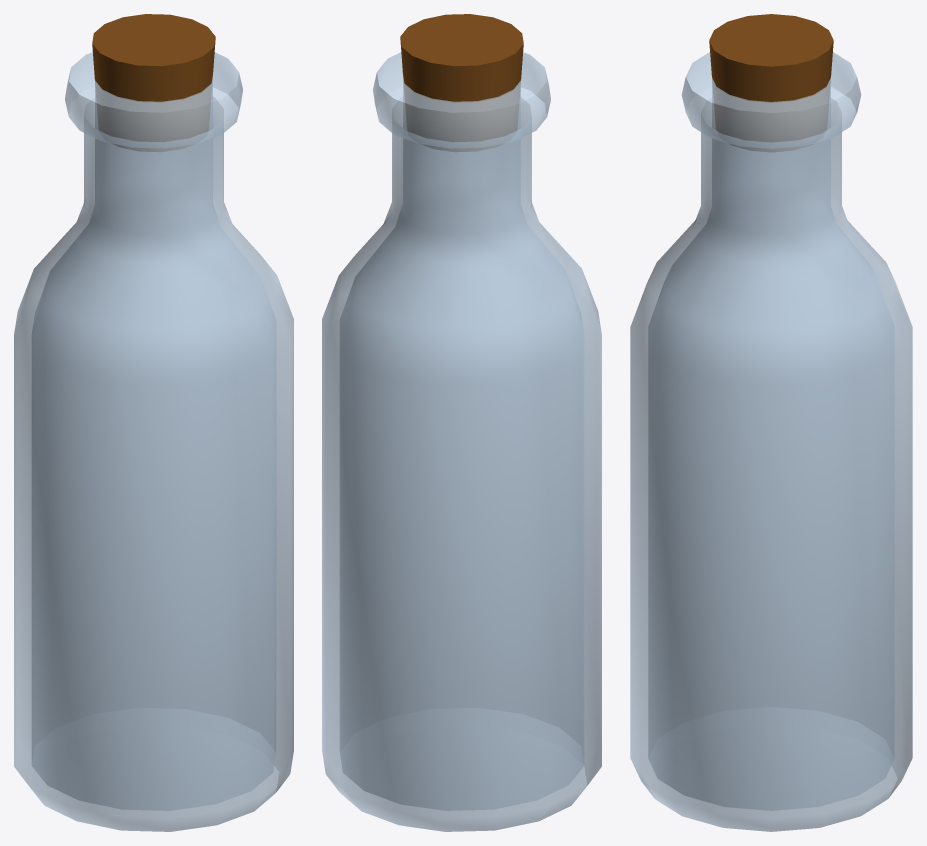
The model's file is Bottle_B.FBX.
3 renders of one model, left to right at view 1: azimuth 30°, elevation 25°; view 2: azimuth 150°, elevation 25°; view 3: azimuth 270°, elevation 25°, orthographic.
Visible parts, largest first — view 1: Bottle_B; view 2: Bottle_B; view 3: Bottle_B.
Boxes of the visible parts, left/top/right/bottom form: Bottle_B: left=14, top=14, right=293, bottom=831; Bottle_B: left=322, top=14, right=601, bottom=831; Bottle_B: left=630, top=14, right=912, bottom=831.
Size of the model in its own units: 32.03 by 92.53 by 32.03.
